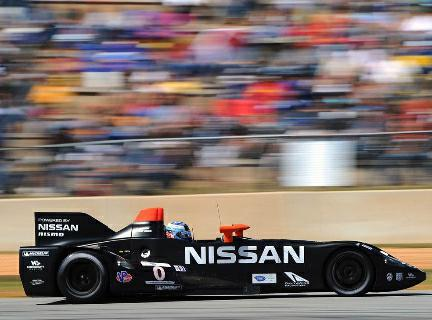日产-DeltaWing: (17, 206, 430, 308)
